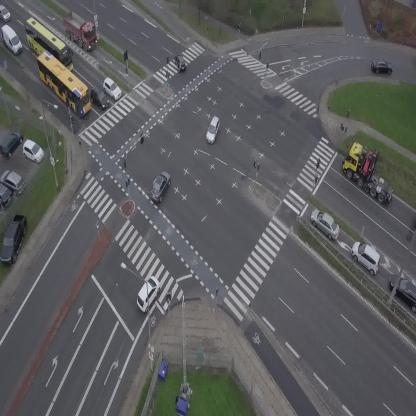bicycle: (68, 115, 75, 130)
bus: (28, 47, 100, 119), (14, 15, 83, 77)
car: (346, 237, 388, 277), (305, 205, 345, 242), (131, 274, 165, 314), (146, 169, 175, 204), (85, 85, 113, 112), (99, 76, 125, 101), (203, 115, 223, 145), (371, 58, 393, 75), (173, 53, 187, 73), (0, 4, 13, 23)
lorry: (335, 136, 399, 215), (56, 8, 105, 54), (0, 23, 26, 58), (414, 221, 416, 227)
